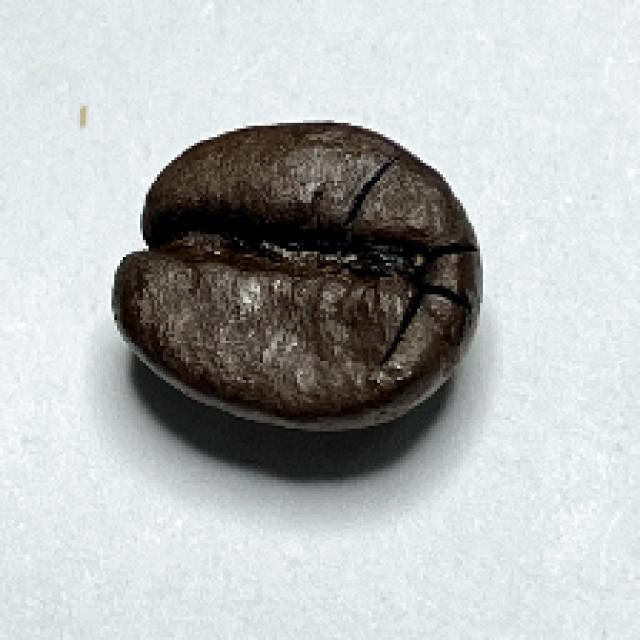bean: (104, 118, 486, 428)
